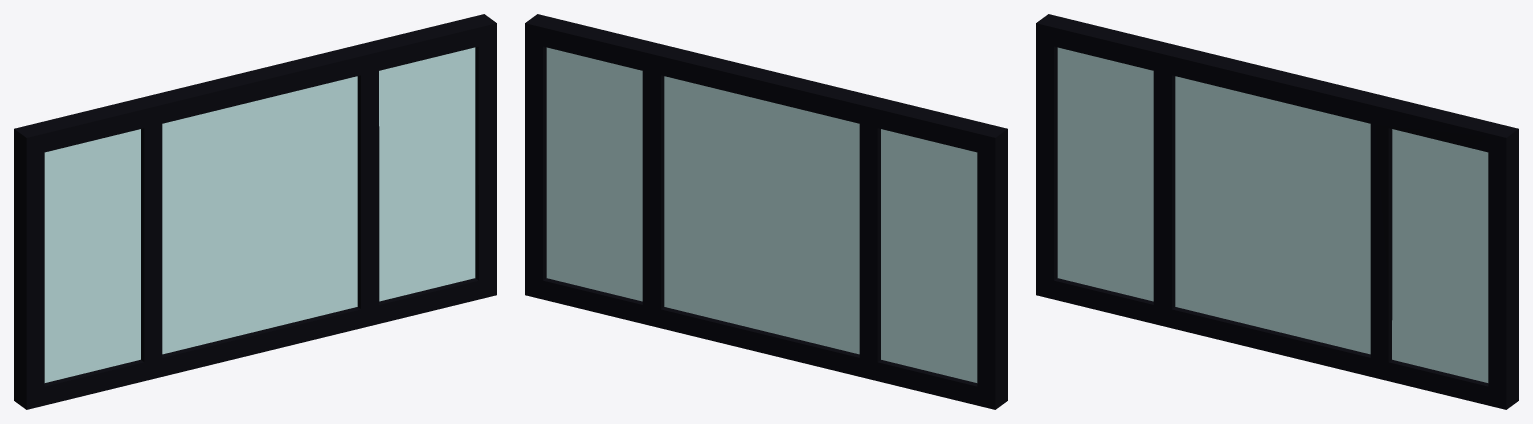
Rendered from Window_01.FBX.
The picture shows the model from 3 angles, left to right: view 1: azimuth 30°, elevation 25°; view 2: azimuth 150°, elevation 25°; view 3: azimuth 330°, elevation 25°; orthographic projection.
Visible parts, largest first — view 1: Object001, Box001; view 2: Object001, Box001; view 3: Object001, Box001.
Boxes of the visible parts, bbox=[...] form: Object001: bbox=[44, 47, 475, 382]; Box001: bbox=[14, 14, 496, 409]; Object001: bbox=[546, 47, 977, 382]; Box001: bbox=[525, 14, 1007, 409]; Object001: bbox=[1057, 47, 1488, 382]; Box001: bbox=[1036, 14, 1518, 409].
Size of the model in its own units: 130 by 71.74 by 6.
2 materials, 1 textured.
